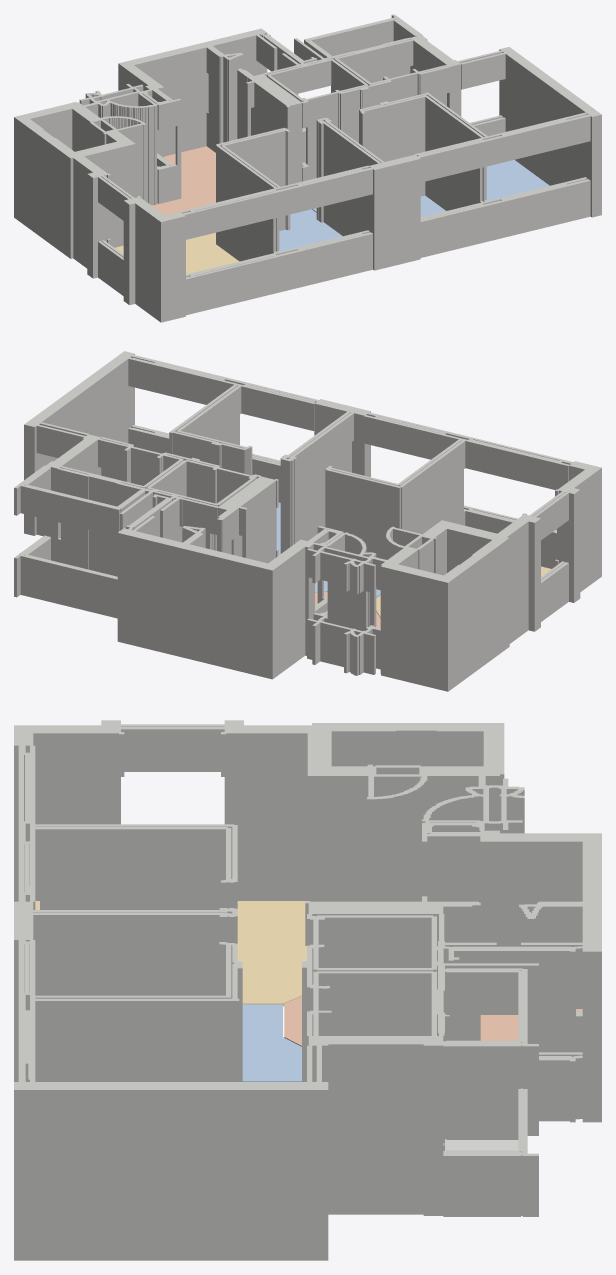
3 views of the same model, one above another, from view 1: azimuth 30°, elevation 25°; view 2: azimuth 150°, elevation 25°; view 3: azimuth 270°, elevation 25° (orthographic). The views are drawn at different scales.
Parts seen in each view (by area): view 1: walls, room:kitchen:0, room:bedroom:9, room:bedroom:7, room:living:6; view 2: walls; view 3: walls, room:living:6, room:bedroom:7, room:kitchen:0, room:ledge:3.
Boxes of the visible parts, x1,y1,x2,y2 form: walls: (14, 14, 601, 322); room:kitchen:0: (151, 146, 215, 215); room:bedroom:9: (486, 160, 549, 200); room:bedroom:7: (279, 209, 342, 251); room:living:6: (115, 232, 239, 274); walls: (14, 351, 601, 691); walls: (14, 720, 601, 1260); room:living:6: (35, 901, 306, 1006); room:bedroom:7: (242, 1004, 301, 1081); room:kitchen:0: (284, 996, 582, 1046); room:ledge:3: (445, 1139, 518, 1150).
Size of the model in its own units: 13.02 by 2.8 by 8.75.
